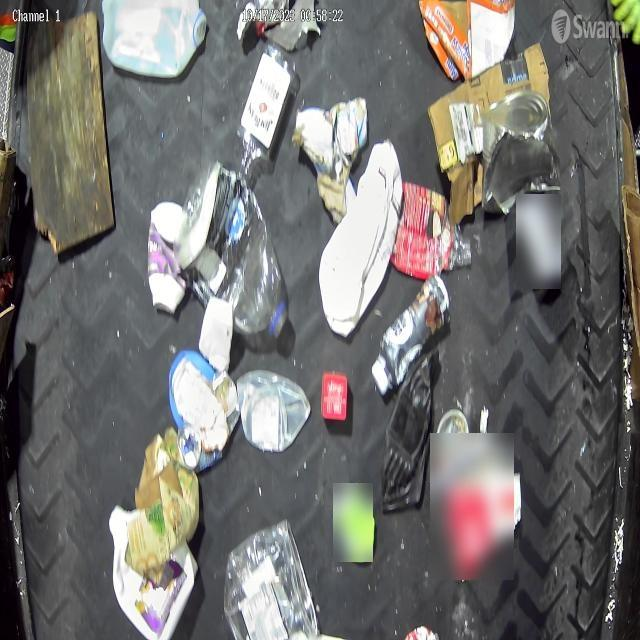milk_jug: (318, 140, 402, 336), (109, 506, 198, 640), (99, 0, 208, 80)
plastic_bottle: (172, 160, 288, 336)
